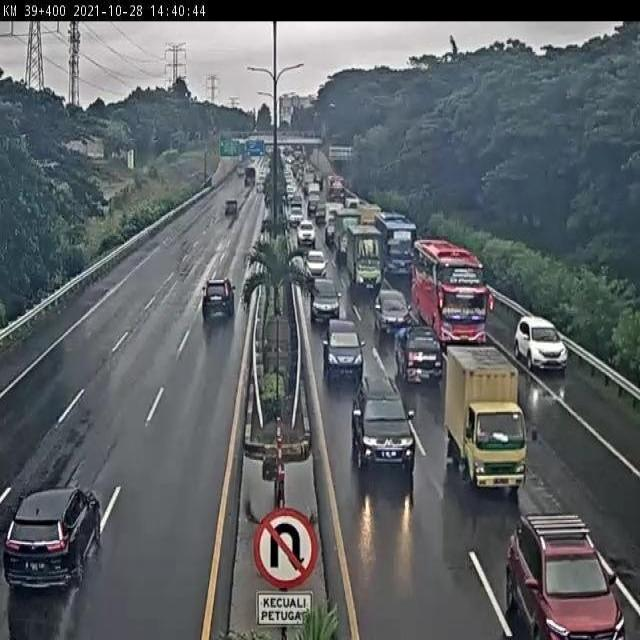Bus: (412, 239, 494, 341), (376, 210, 417, 272)
Car: (503, 510, 628, 640), (0, 485, 104, 593), (350, 375, 417, 477), (515, 316, 569, 374), (319, 318, 368, 381), (373, 288, 414, 340), (201, 278, 237, 321), (310, 278, 343, 323), (303, 245, 327, 278), (294, 219, 318, 244)
Truck: (445, 344, 539, 499), (389, 327, 445, 384), (348, 221, 387, 290), (334, 208, 362, 259)
